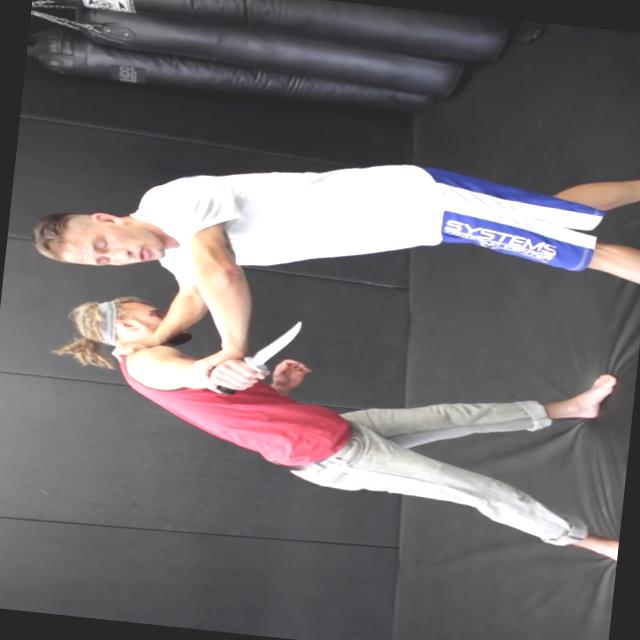knife: (208, 307, 312, 407)
